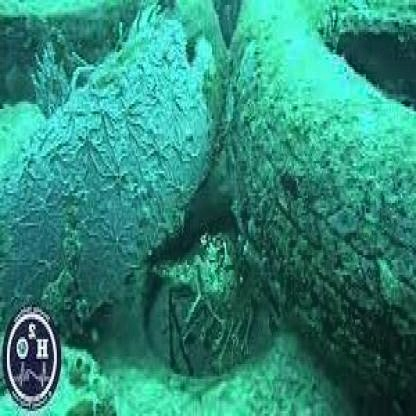tire: (1, 2, 231, 362), (223, 2, 416, 404)
